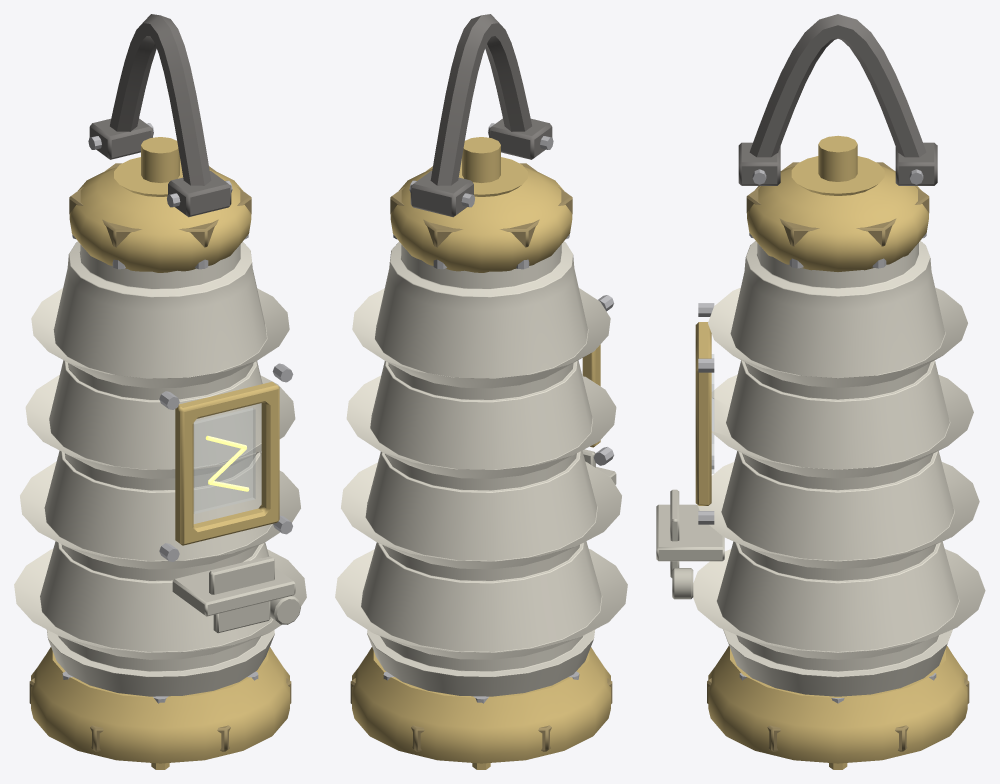
File: fuse_core.glb
3 views of the same model, side by side, from view 1: azimuth 30°, elevation 25°; view 2: azimuth 150°, elevation 25°; view 3: azimuth 270°, elevation 25° (orthographic).
Visible parts, largest first — view 1: CeramicBody, BrassBase, BrassTop, _bezelFrame, Handle, DataPlate, Glass, HandleLugs, _hexTop, WindowScrews, Filament, _hexBase; view 2: CeramicBody, BrassBase, BrassTop, Handle, HandleLugs, _hexTop, _hexBase, _bezelFrame; view 3: CeramicBody, BrassBase, BrassTop, Handle, DataPlate, _bezelFrame, HandleLugs, _hexTop, WindowScrews, _hexBase.
Boxes of the visible parts, x1,y1,x2,y2 form: CeramicBody: [14, 241, 306, 696]; BrassBase: [31, 647, 289, 763]; BrassTop: [69, 137, 251, 272]; _bezelFrame: [175, 381, 279, 545]; Handle: [110, 14, 211, 185]; DataPlate: [172, 556, 300, 633]; Glass: [193, 407, 255, 513]; HandleLugs: [89, 118, 231, 217]; _hexTop: [69, 163, 251, 247]; WindowScrews: [159, 363, 293, 561]; Filament: [205, 435, 249, 491]; _hexBase: [29, 678, 291, 751]; CeramicBody: [335, 241, 627, 696]; BrassBase: [352, 647, 610, 763]; BrassTop: [390, 137, 572, 272]; Handle: [430, 14, 531, 185]; HandleLugs: [410, 118, 552, 217]; _hexTop: [390, 163, 572, 247]; _hexBase: [350, 678, 612, 751]; _bezelFrame: [582, 344, 600, 447]; CeramicBody: [693, 241, 985, 696]; BrassBase: [708, 646, 967, 763]; BrassTop: [747, 135, 928, 271]; Handle: [749, 14, 926, 157]; DataPlate: [656, 489, 724, 599]; _bezelFrame: [695, 322, 711, 505]; HandleLugs: [738, 142, 937, 185]; _hexTop: [746, 162, 929, 246]; WindowScrews: [698, 303, 714, 524]; _hexBase: [707, 678, 969, 751].
Bounding box in the file's own units: 0.1124 × 0.3062 × 0.1254.
